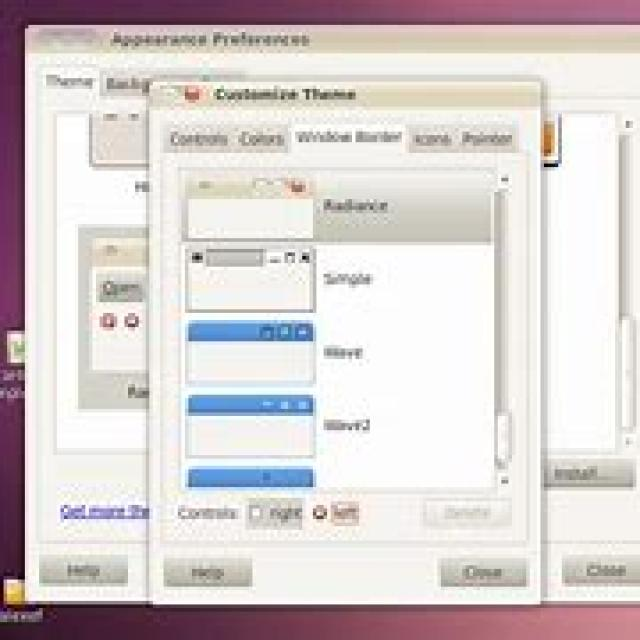button: (34, 550, 130, 590), (436, 552, 531, 590), (543, 454, 633, 491), (162, 553, 255, 587), (419, 496, 514, 529), (558, 552, 640, 590), (157, 80, 205, 104), (286, 177, 308, 198), (99, 311, 119, 331), (124, 309, 139, 331), (295, 323, 313, 341), (257, 325, 273, 340), (312, 504, 326, 521), (283, 251, 298, 266), (258, 396, 272, 412), (278, 323, 292, 339), (298, 398, 312, 413), (268, 253, 283, 266), (299, 249, 311, 265), (279, 398, 292, 412)
checkbox: (246, 503, 264, 522)
dropdownMenu: (204, 247, 266, 270)
label: (104, 26, 315, 52), (213, 86, 362, 106), (56, 497, 152, 524), (319, 196, 391, 218), (319, 267, 378, 293), (172, 502, 240, 524), (317, 413, 376, 437), (320, 343, 368, 364)
slider: (491, 171, 519, 494), (612, 111, 637, 448)
tabControl: (159, 122, 526, 161), (34, 63, 148, 105)
